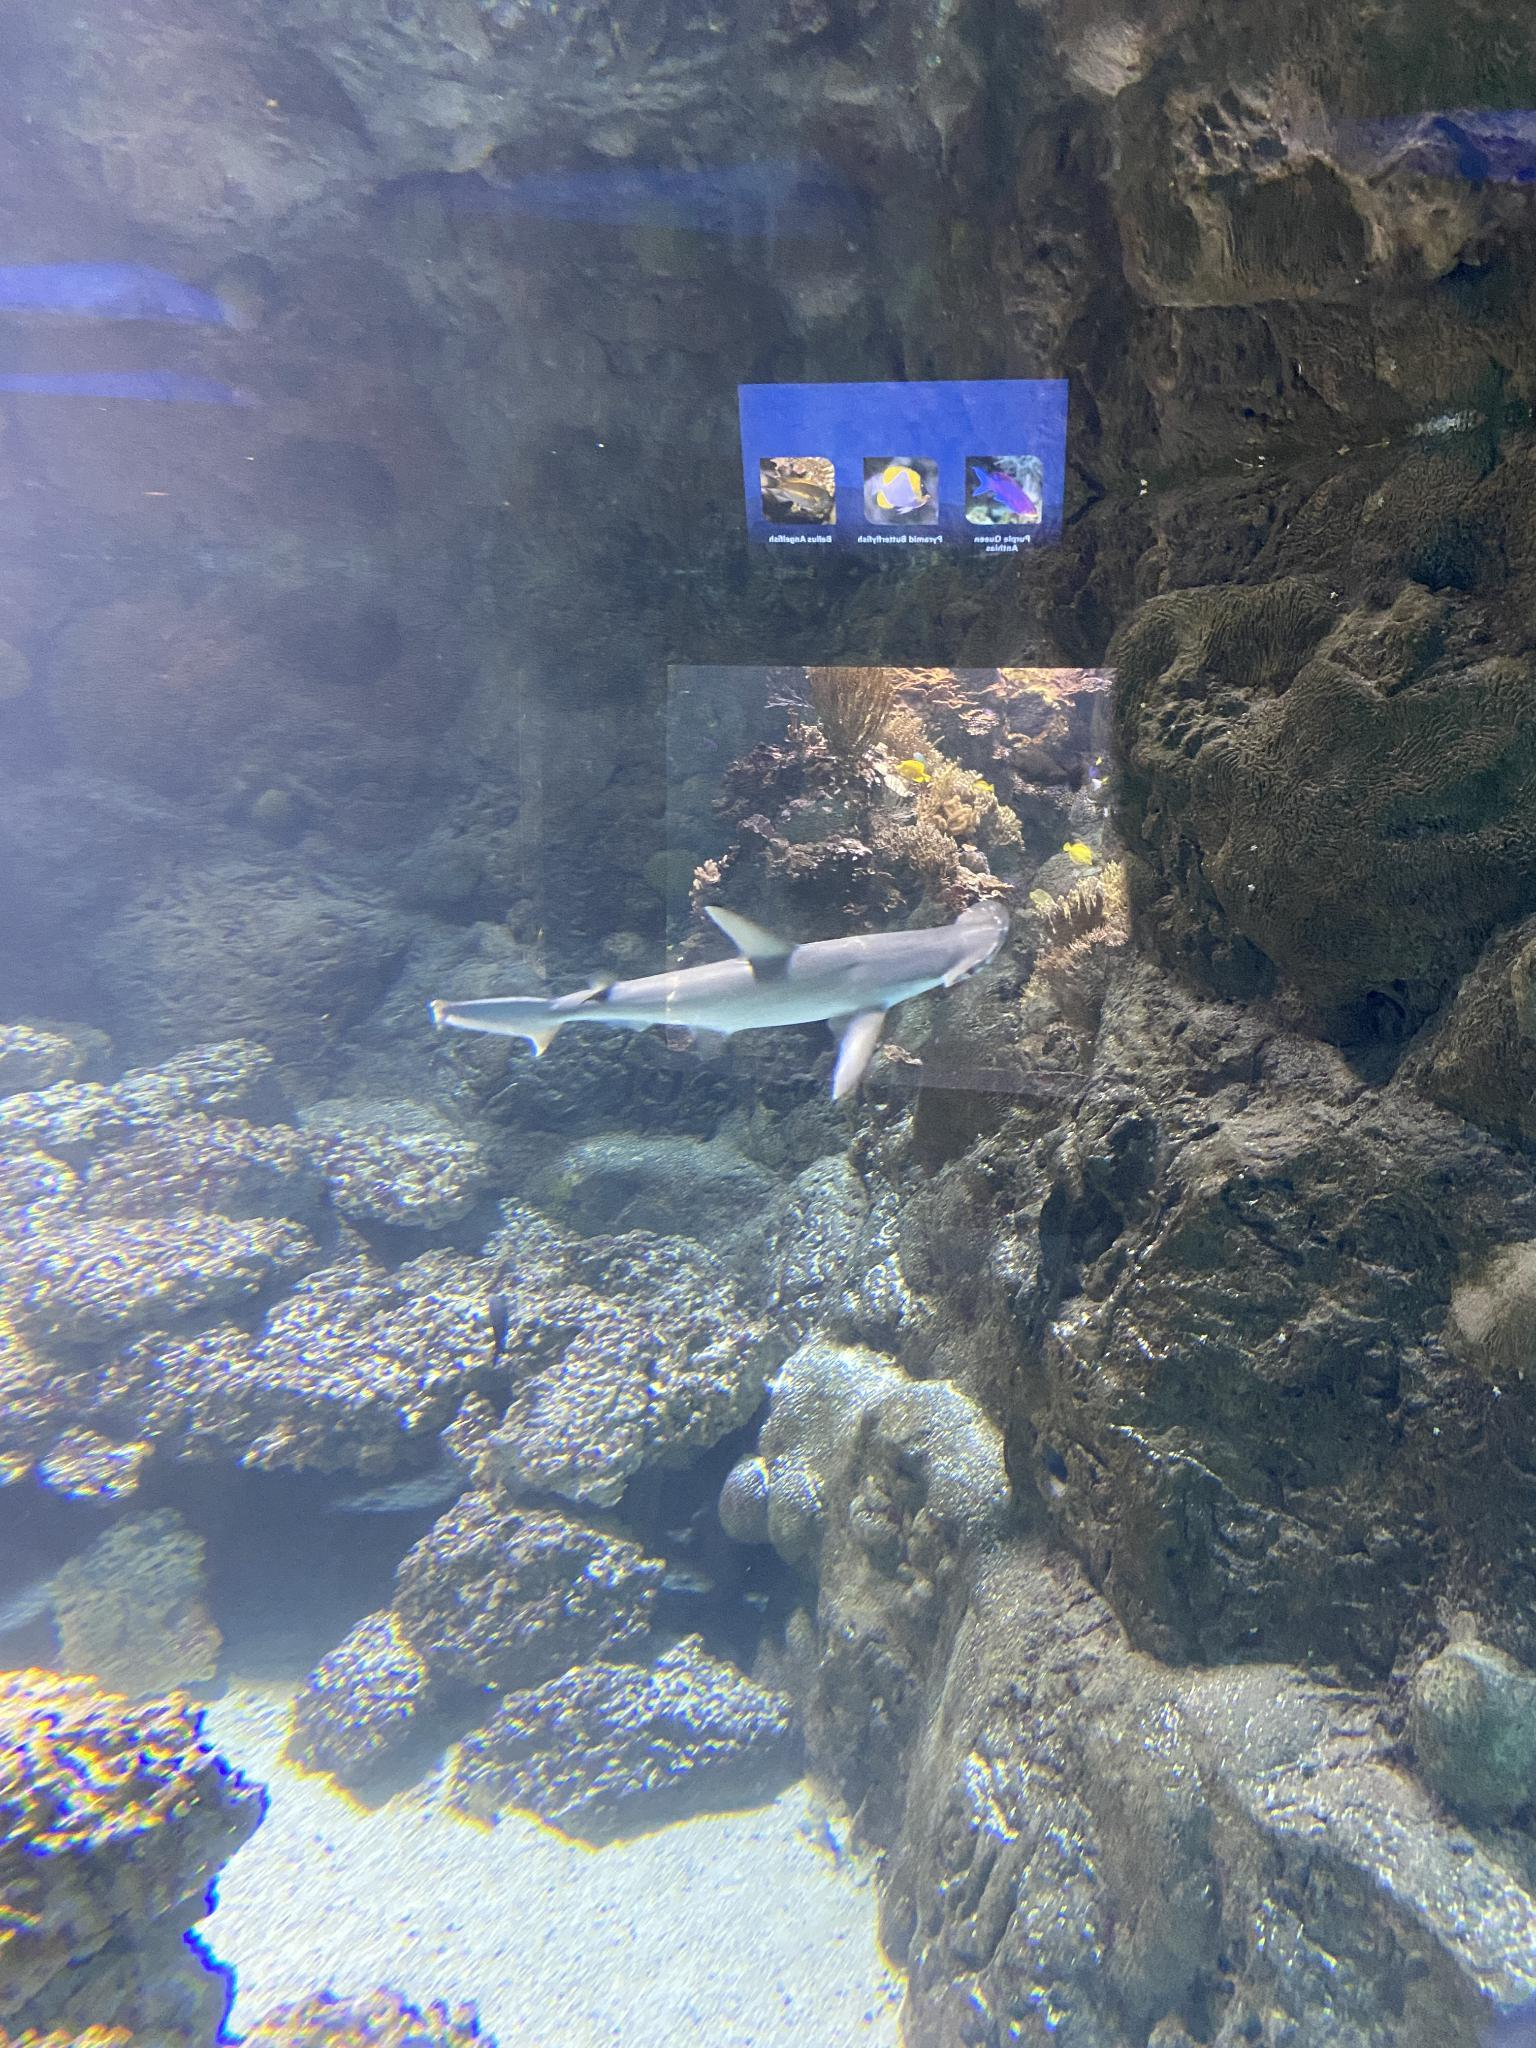shark: (429, 903, 1013, 1097)
